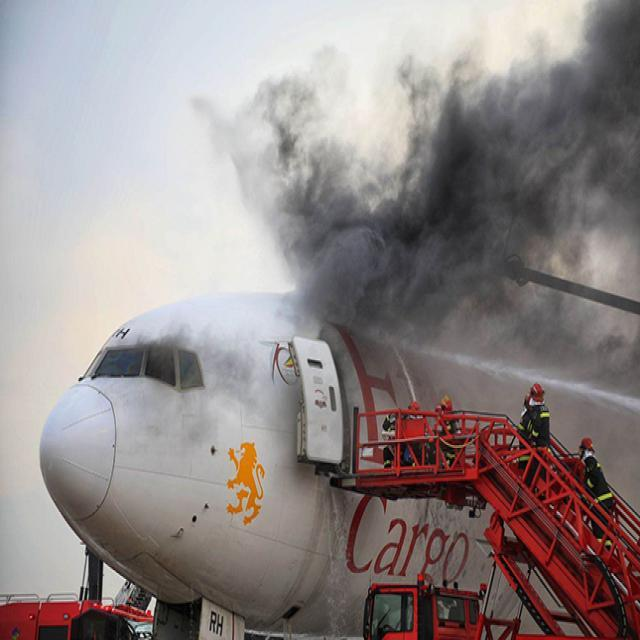Smoke: (255, 0, 640, 289)
